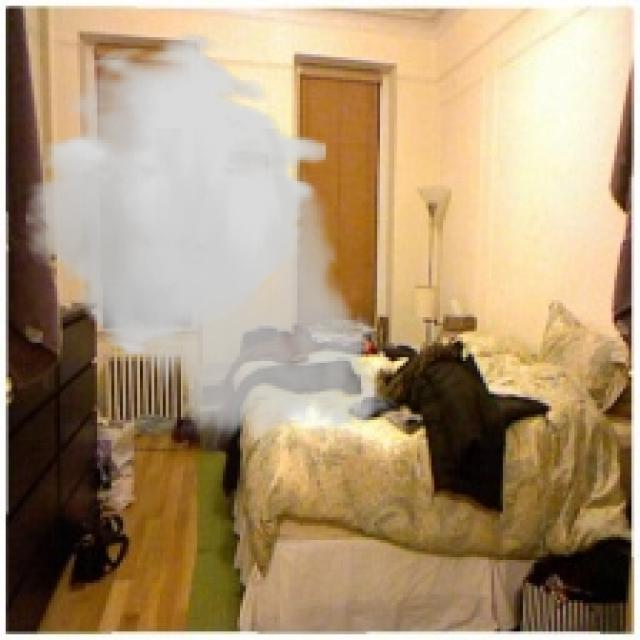Smoke: (26, 32, 397, 454)
